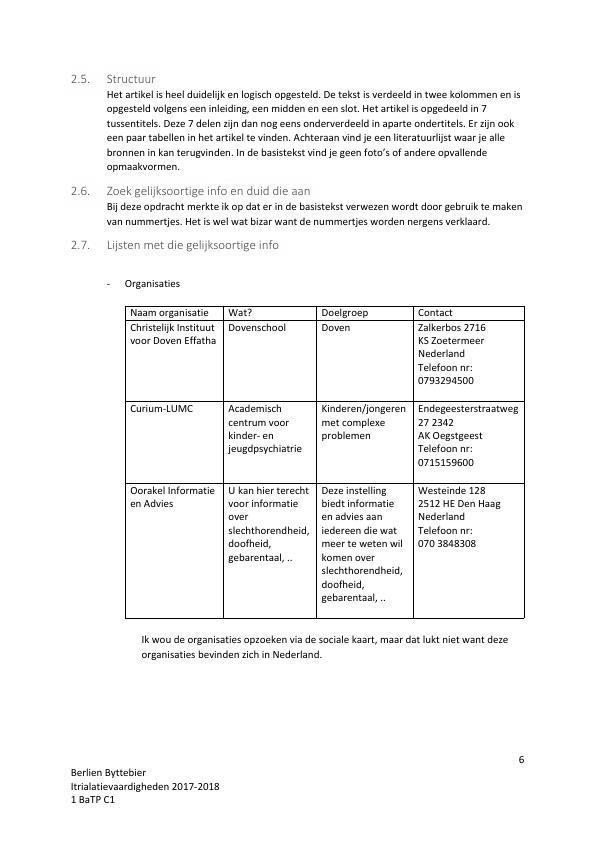table: (121, 302, 529, 625)
text: (67, 71, 531, 175), (67, 184, 525, 231), (136, 632, 511, 663), (62, 764, 228, 808), (64, 237, 284, 256), (118, 275, 181, 291)
